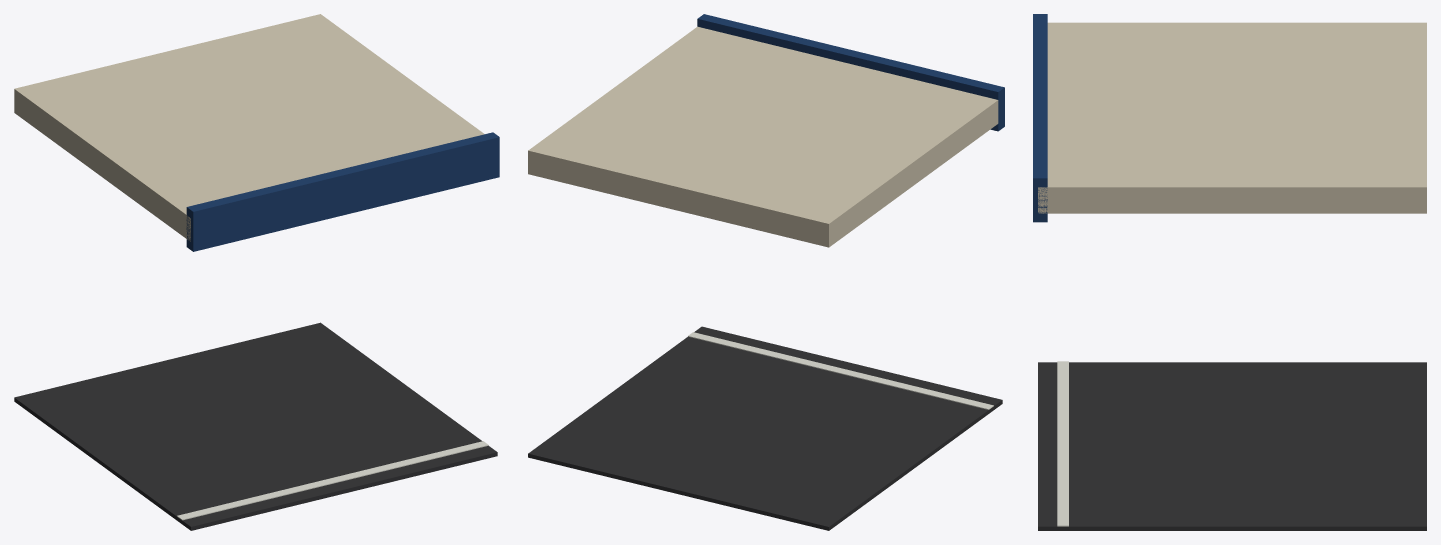
File: drive-up-lane.glb
The picture shows the model from 3 angles, left to right: view 1: azimuth 30°, elevation 25°; view 2: azimuth 150°, elevation 25°; view 3: azimuth 270°, elevation 25°; orthographic projection. The views are drawn at different scales.
Visible parts, largest first — view 1: drive-up-lane; view 2: drive-up-lane; view 3: drive-up-lane.
Boxes of the visible parts, bbox=[...] form: drive-up-lane: bbox=[14, 14, 499, 530]; drive-up-lane: bbox=[528, 14, 1004, 530]; drive-up-lane: bbox=[1033, 14, 1426, 530].
Bounding box in the file's own units: 4 × 4 × 4.05.
